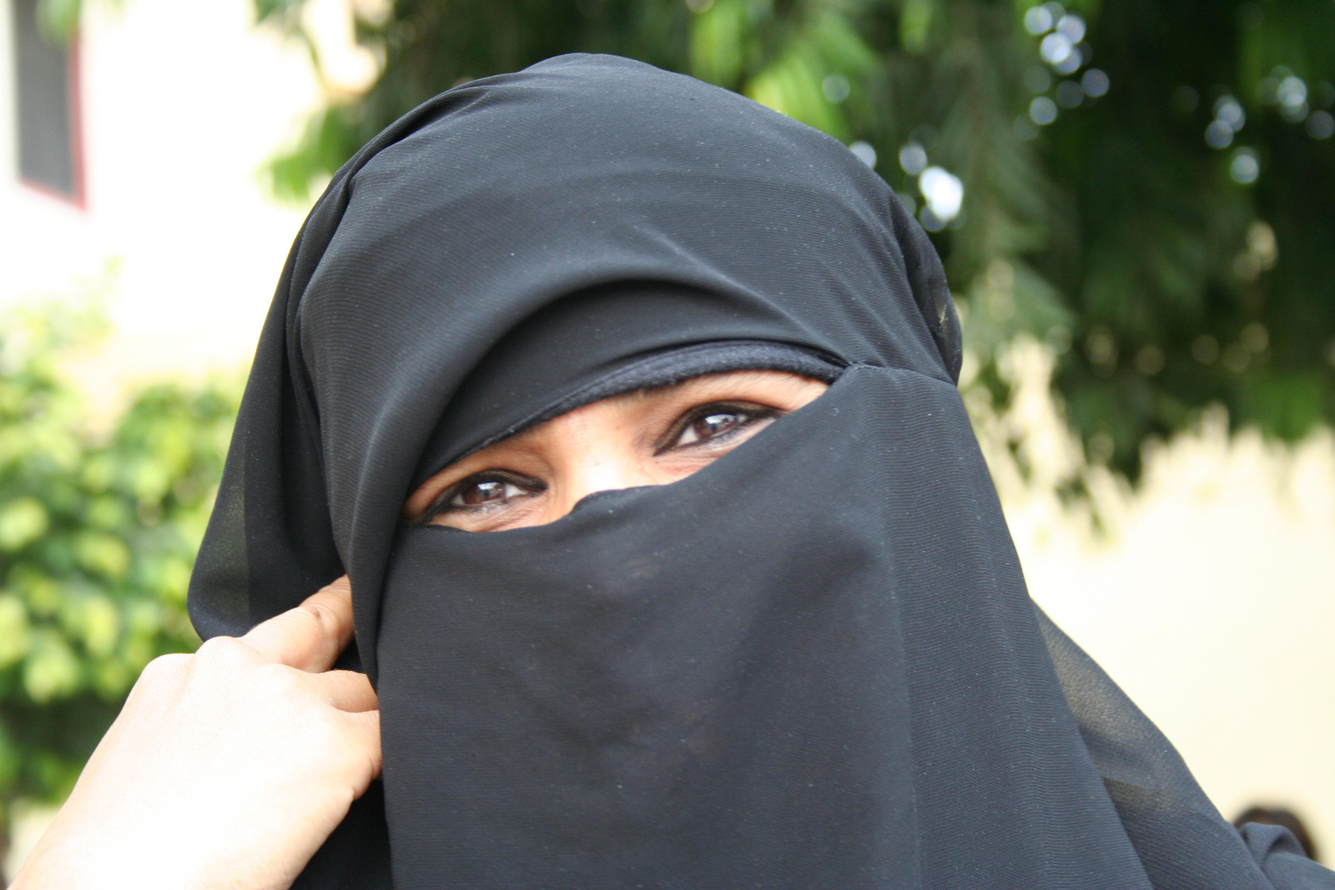OK: (377, 290, 921, 834)
